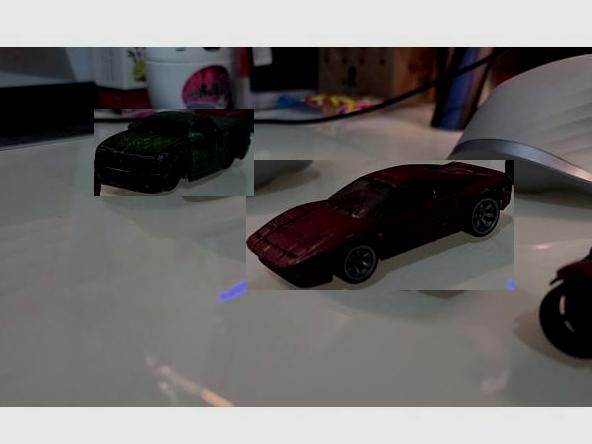toy-car: (245, 160, 513, 290), (94, 110, 254, 197), (536, 235, 592, 366)
